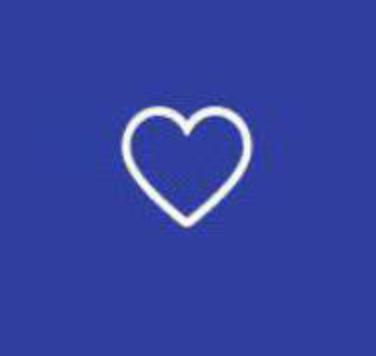ImgButton: (1, 1, 375, 355)
